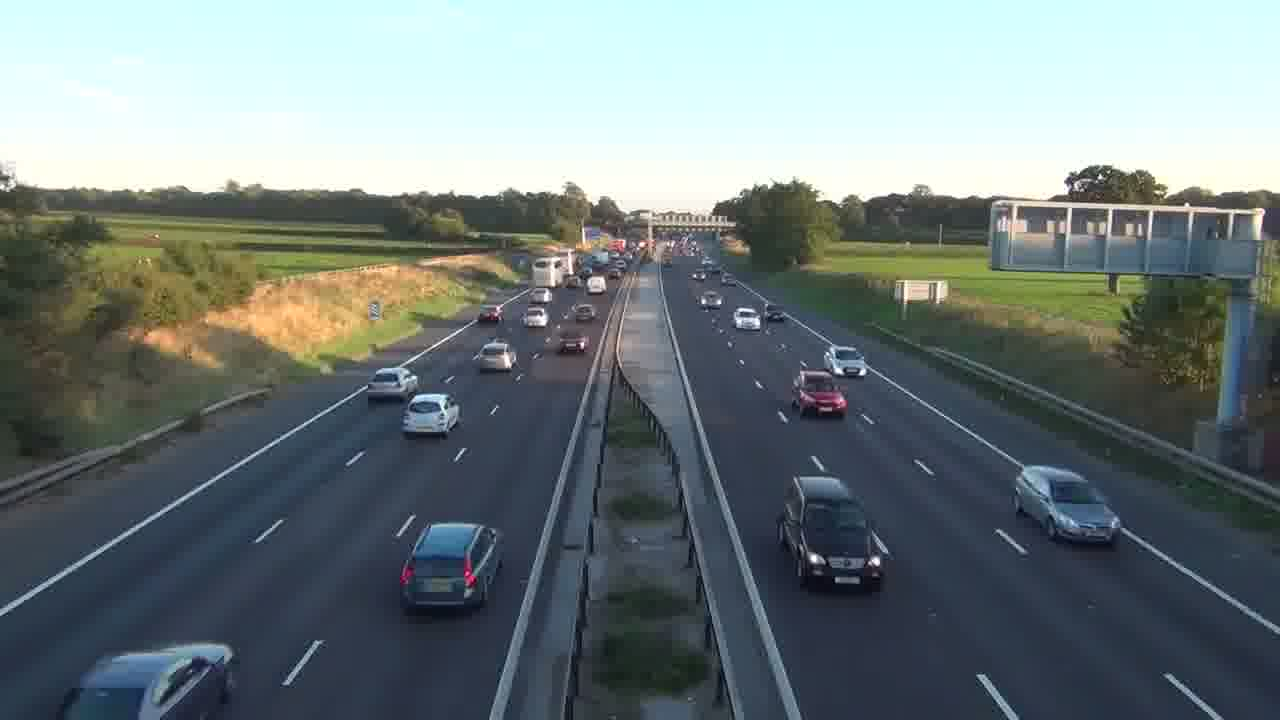car: (776, 473, 894, 593), (398, 521, 504, 613), (1012, 463, 1122, 547), (400, 392, 462, 438), (791, 369, 848, 418), (367, 367, 421, 402), (823, 344, 866, 378), (823, 345, 867, 377), (474, 339, 516, 372), (734, 306, 762, 332), (573, 302, 596, 323), (524, 308, 549, 326)
truck: (776, 473, 894, 593)
